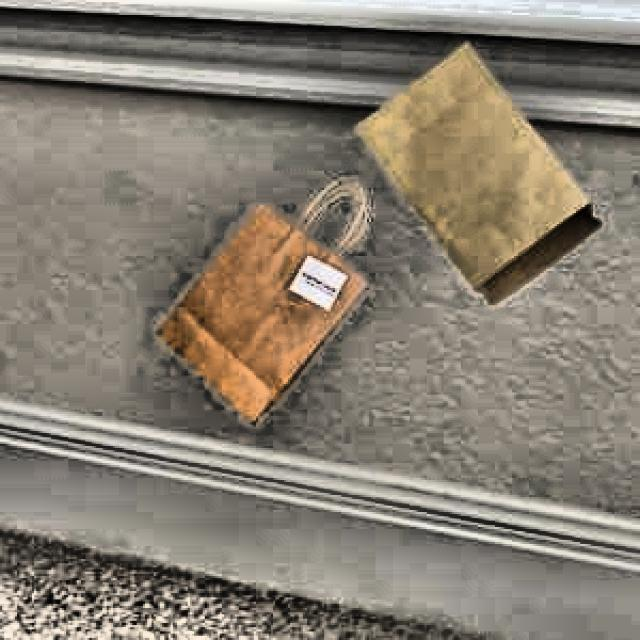Paper-bag: (353, 16, 615, 329), (158, 160, 378, 448)
